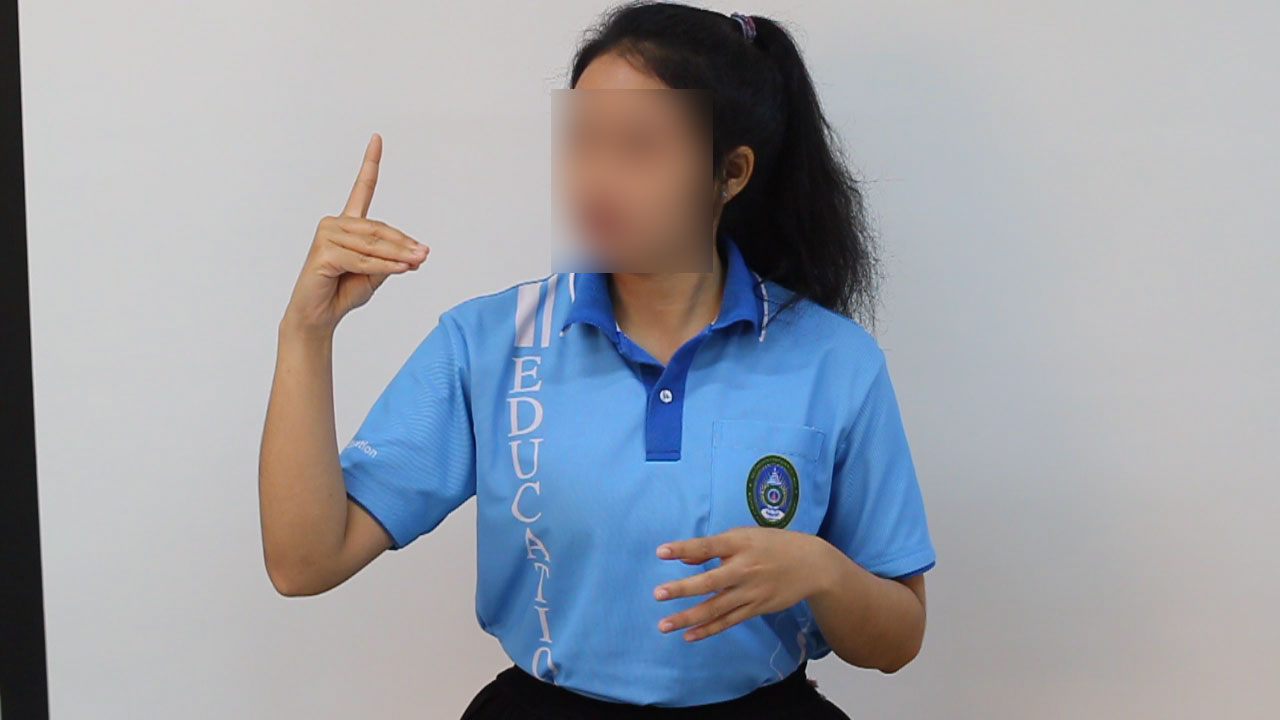dor: (272, 121, 440, 368)
